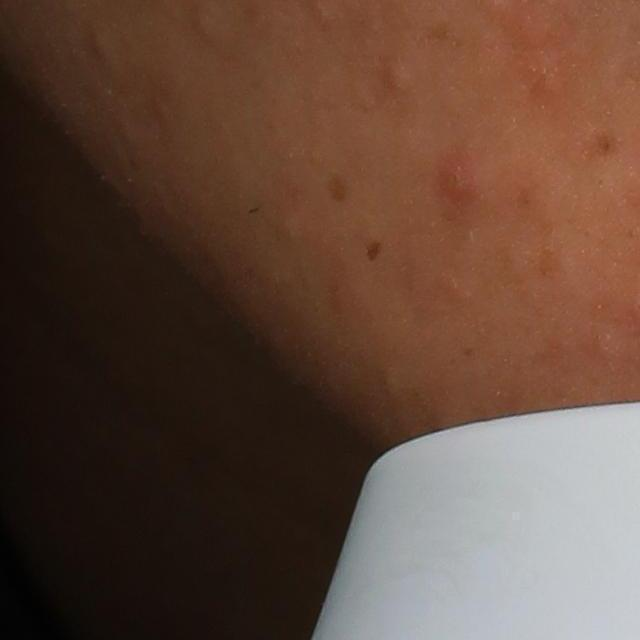comedo: (382, 63, 416, 96), (189, 11, 222, 44), (90, 30, 115, 67)
